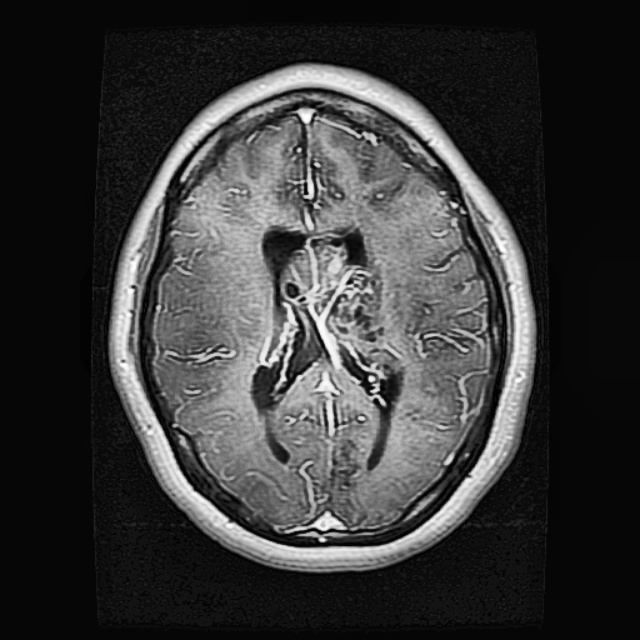Glioma: (275, 234, 397, 377)
